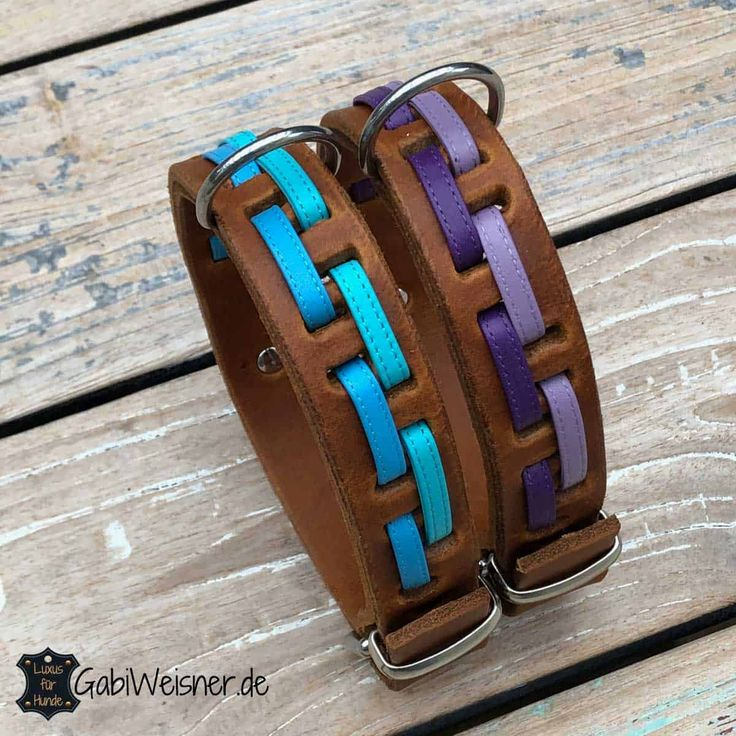cuero: (168, 70, 623, 691)
